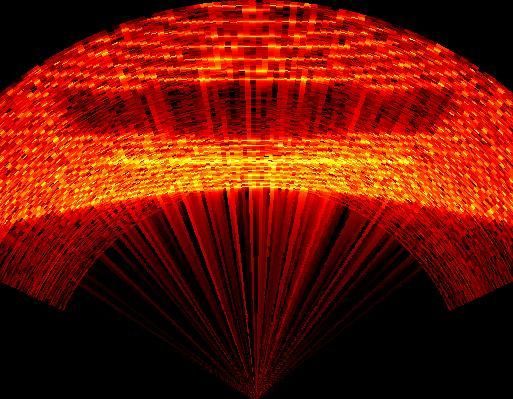pipe: (61, 76, 455, 172)
